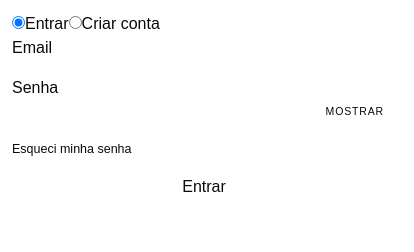
Test case: LoginForm — modo Entrar › exibe alerta de credenciais inválidas em caso de 401 sem type e não popula a store
Type "neto@email.com" into the field labelled "Email" at (156, 48), box left=52, top=36, right=259, bottom=60
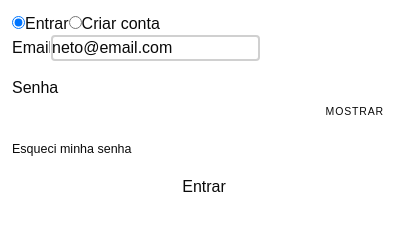
Type "Senha123" into the password field labelled "Senha" at (204, 112), box left=12, top=100, right=396, bottom=124
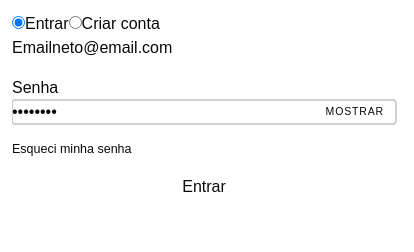
Click the button "Entrar" at (204, 187), box left=12, top=175, right=396, bottom=199
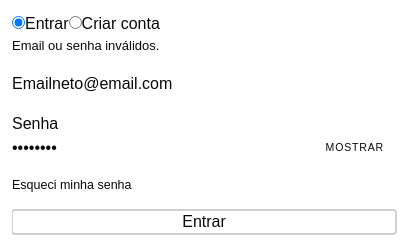
expect the text "Email ou senha inválidos." is shown: met, box left=12, top=38, right=159, bottom=53
